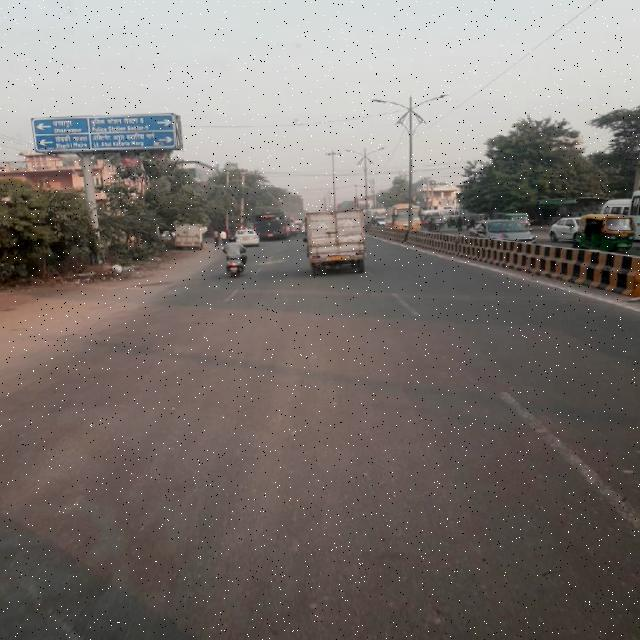D44: (498, 377, 639, 519)
